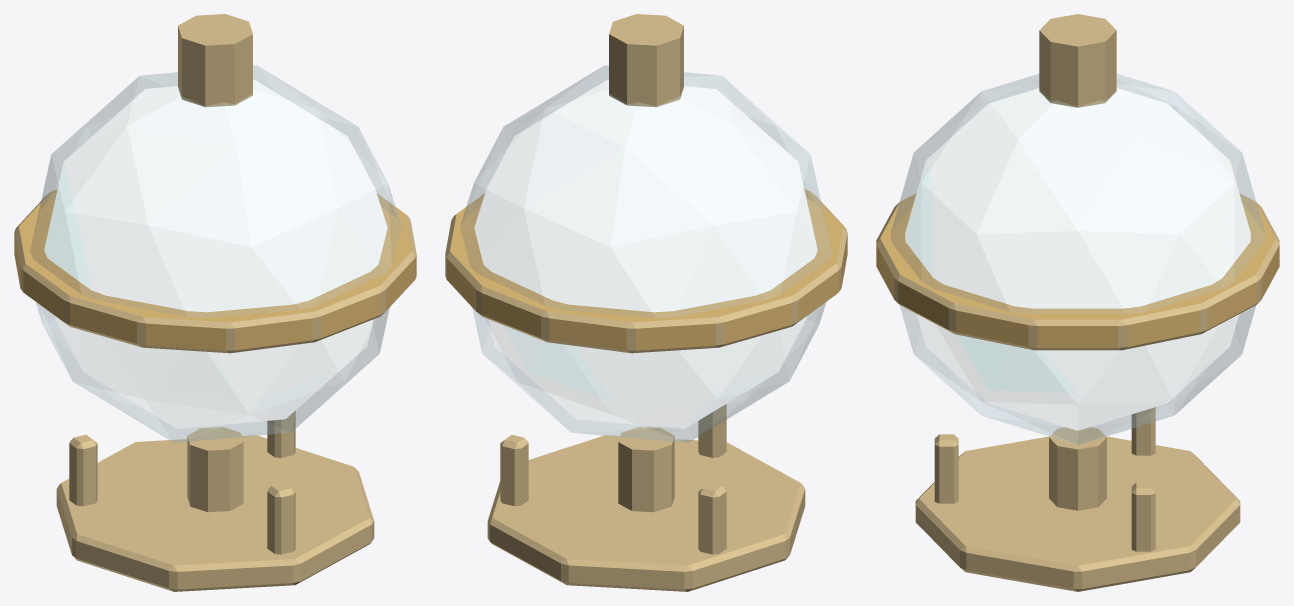
3 renders of one model, left to right at view 1: azimuth 30°, elevation 25°; view 2: azimuth 150°, elevation 25°; view 3: azimuth 270°, elevation 25°, orthographic.
Visible parts, largest first — view 1: In_Sphere, Liquid.003; view 2: In_Sphere, Liquid.003; view 3: In_Sphere, Liquid.003.
Part boxes in pixels (box(x1,y1,x2,y2)): In_Sphere: box(14, 14, 416, 591); Liquid.003: box(44, 79, 387, 428); In_Sphere: box(445, 14, 847, 591); Liquid.003: box(474, 79, 817, 428); In_Sphere: box(876, 14, 1279, 591); Liquid.003: box(905, 88, 1250, 430).
Bounding box in the file's own units: 0.8189 × 1.13 × 0.8355.
